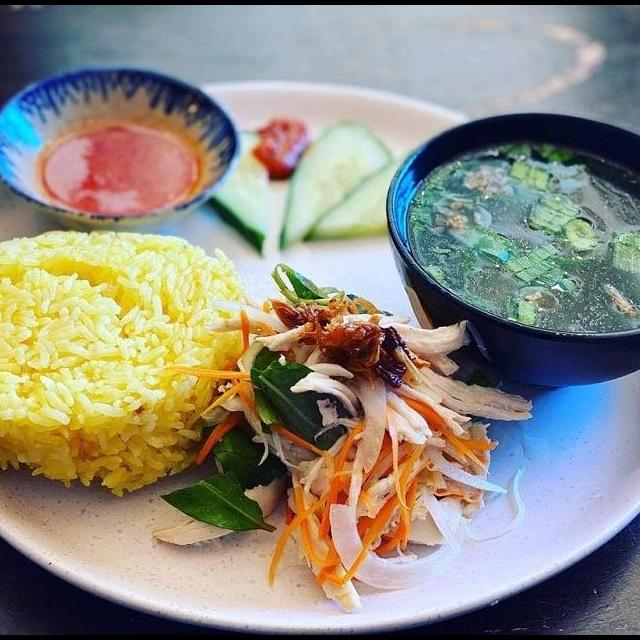com: (0, 221, 264, 502)
com ga: (0, 52, 640, 635)
rau ram: (153, 417, 284, 538), (248, 343, 354, 455), (262, 262, 401, 326)
thit ga: (252, 307, 536, 452), (147, 466, 290, 551)
